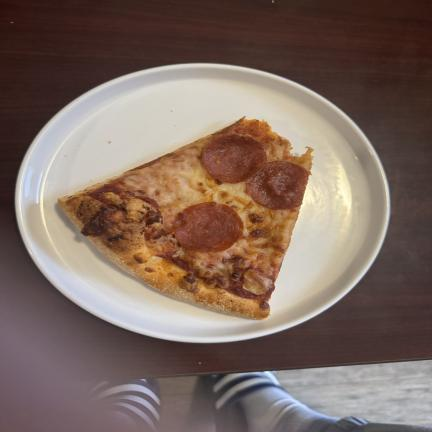pizza: (59, 118, 312, 319)
plate: (17, 64, 389, 342)
